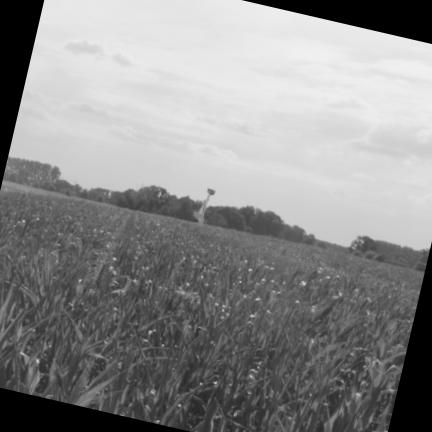Shahed: (194, 189, 215, 225)
